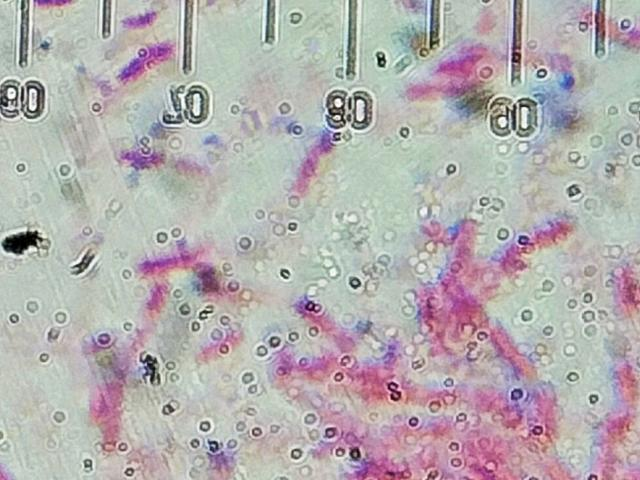E. coli: (506, 205, 570, 269), (339, 434, 414, 480), (293, 132, 343, 192), (423, 273, 468, 335), (600, 411, 640, 480), (289, 299, 344, 341), (113, 45, 174, 82), (132, 143, 202, 173), (199, 318, 246, 362), (138, 246, 206, 272), (95, 359, 116, 439), (492, 325, 526, 373), (451, 213, 479, 269), (613, 256, 640, 313), (133, 279, 167, 322), (431, 52, 484, 74), (355, 370, 401, 395), (453, 385, 498, 408), (535, 400, 560, 441), (402, 82, 462, 97), (460, 454, 494, 480), (129, 10, 160, 32)
